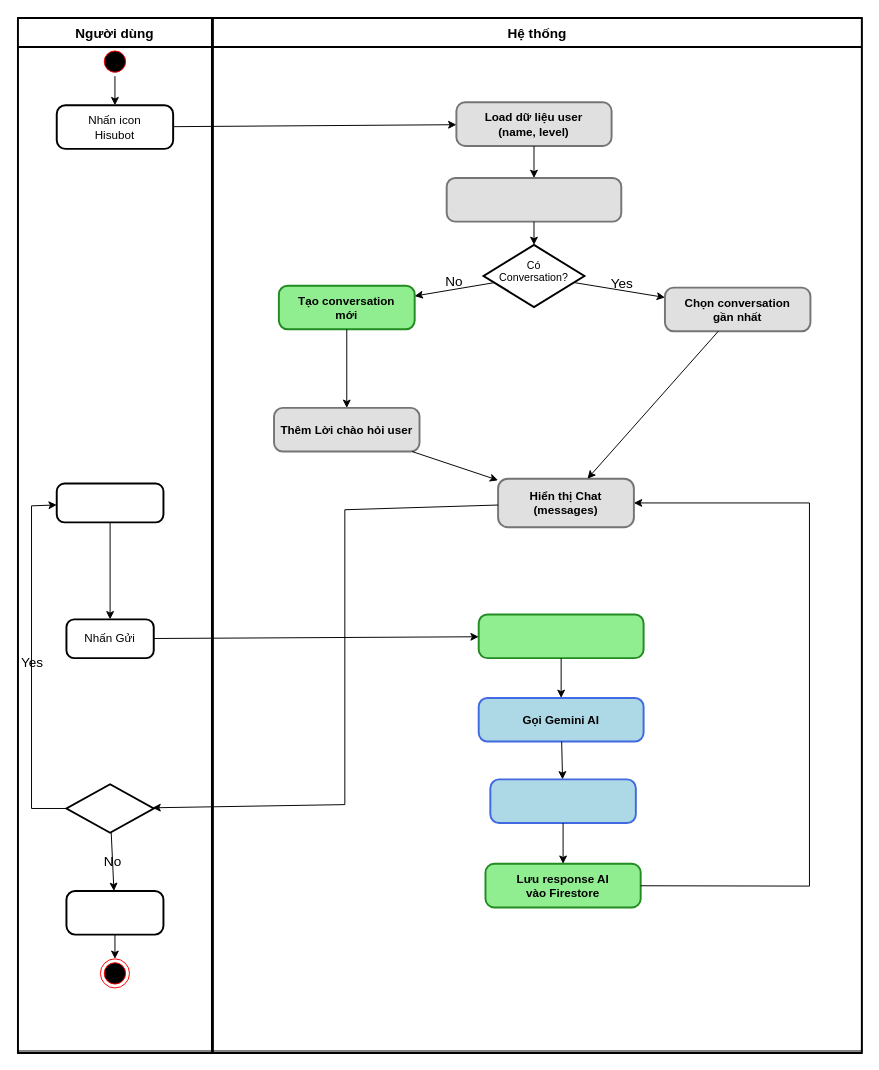
Some shapes in this 879 by 1070 pixel diagram are drawn without their labels. The centre of each missing label's shape, as x and y in pixels:
"Load Conversations từ Firestore" goes at point (533, 199).
"Lưu message user vào Firestore" goes at point (560, 636).
"Nhấn Back (Thoát)" goes at point (114, 912).
"Nhập câu hỏi" goes at point (109, 502).
"Stream response (hiển thị phản hồi)" goes at point (562, 801).
"Tiếp tục chat?" goes at point (109, 808).
